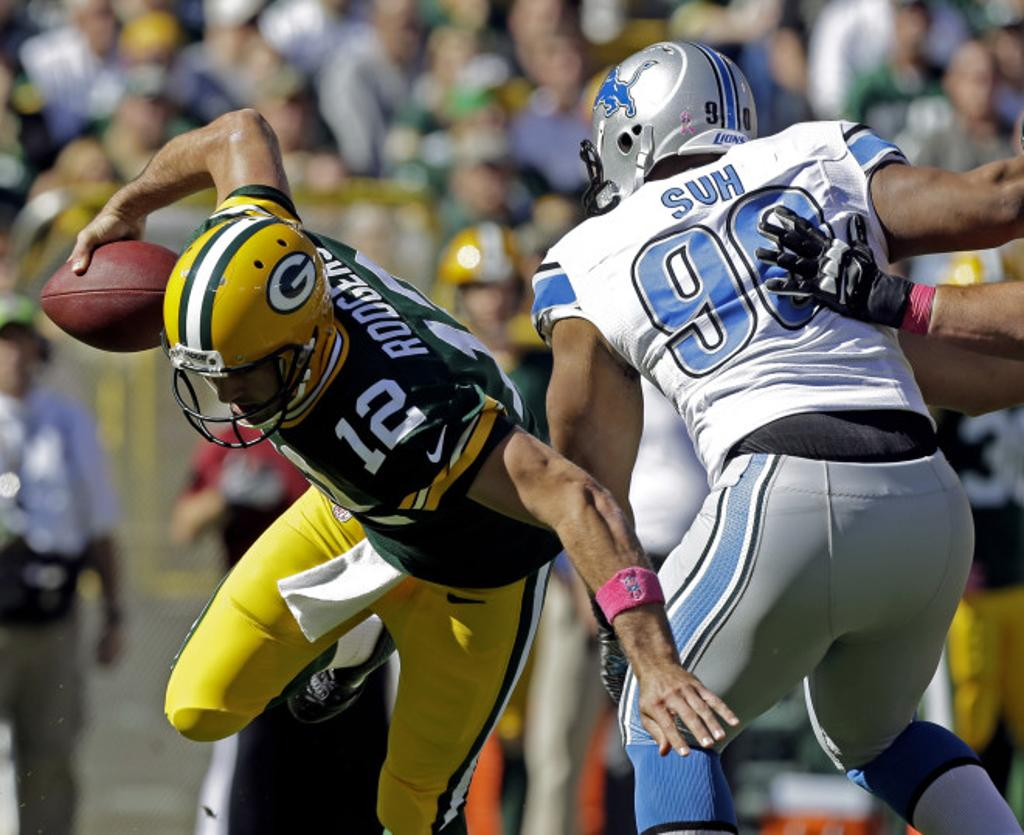face: (192, 338, 282, 424)
